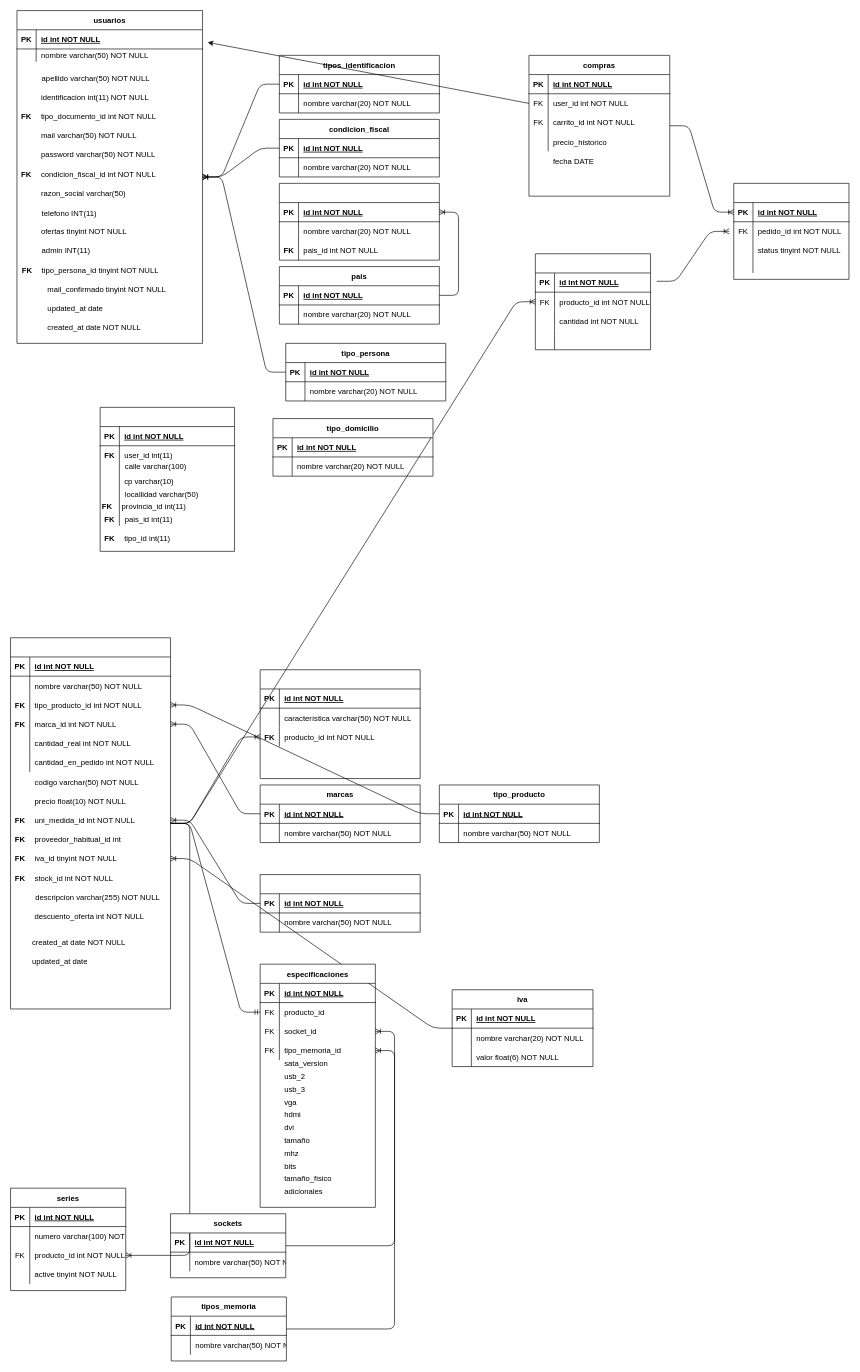
Image size: 860x1372. Some labels were removed from this diagram. The box of each missing label's shape, as (x1, y1, x2, y2) in pixels:
características: (260, 669, 420, 779)
carrito: (733, 183, 849, 279)
domicilio: (100, 407, 235, 551)
pedidos: (535, 253, 651, 350)
productos: (10, 637, 171, 1009)
provincias: (279, 183, 439, 260)
uni_medida: (260, 874, 420, 932)
